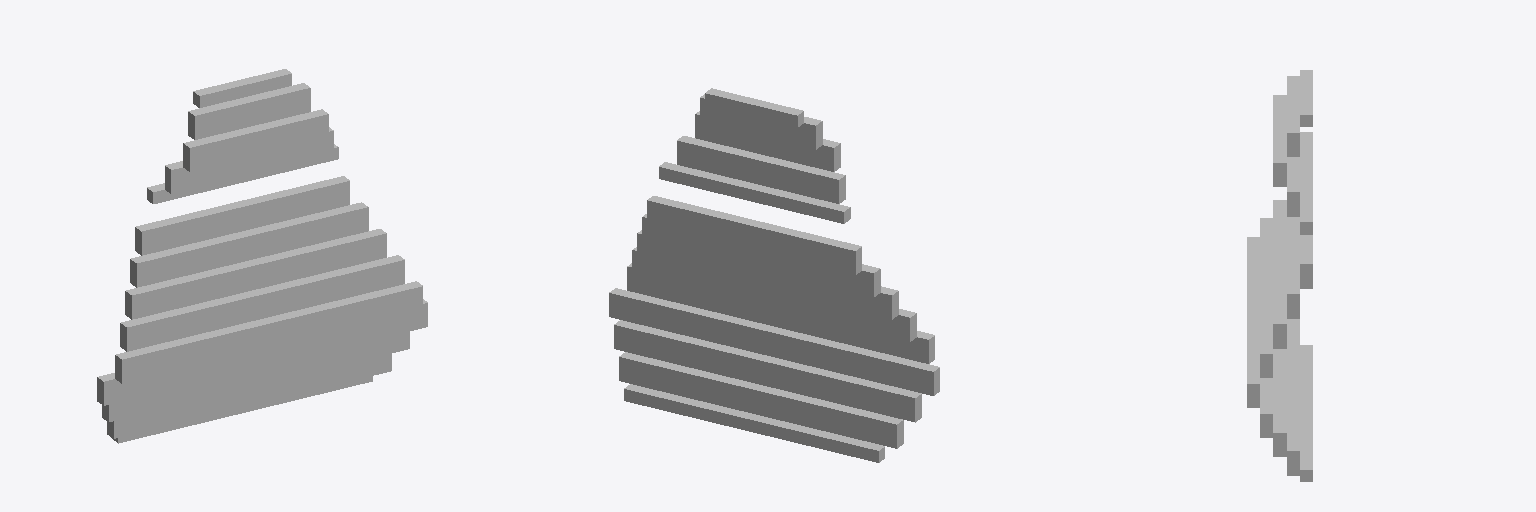
File: Main Ship Back Sail.obj
3 renders of one model, left to right at view 1: azimuth 30°, elevation 25°; view 2: azimuth 150°, elevation 25°; view 3: azimuth 270°, elevation 25°, orthographic.
Parts seen in each view (by area): view 1: Back Sail; view 2: Back Sail; view 3: Back Sail.
Boxes of the visible parts, box(x1,y1,x2,y2) form: Back Sail: box(97, 69, 427, 443); Back Sail: box(609, 88, 939, 462); Back Sail: box(1247, 70, 1312, 481).
Size of the model in its own units: 5.6 by 5.4 by 1.